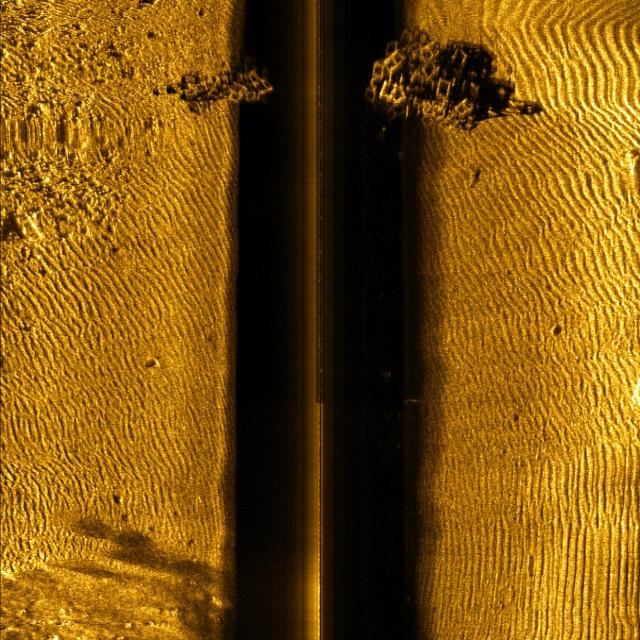artificial reef: (364, 19, 498, 158), (179, 59, 294, 132)
